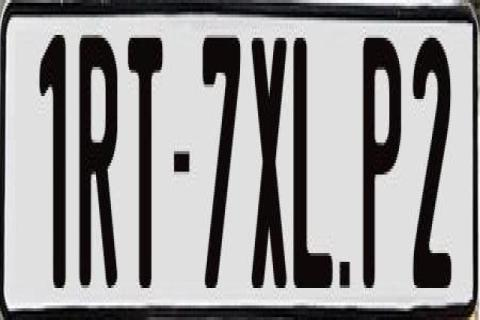0: (202, 32, 246, 294), (411, 38, 455, 294), (38, 26, 68, 282)
L: (293, 32, 335, 296)
P: (361, 35, 399, 291)
R: (78, 26, 122, 294)
T: (128, 32, 164, 294)
X: (249, 29, 287, 297)
